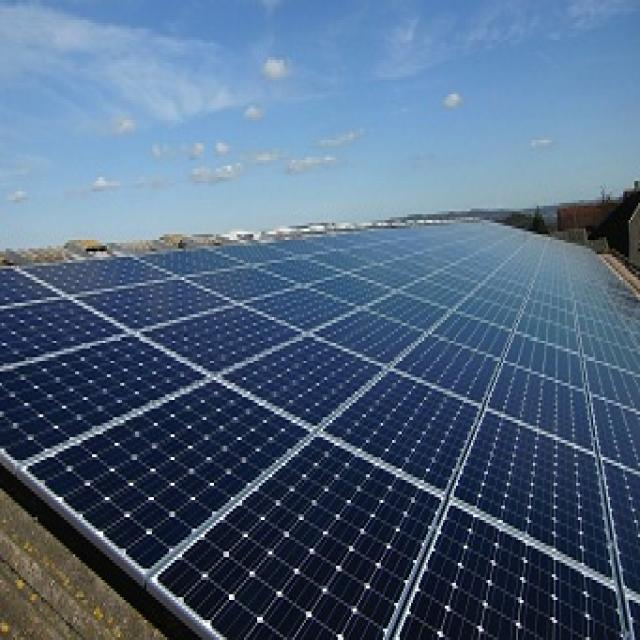clean-solar-panel: (0, 225, 640, 638)
